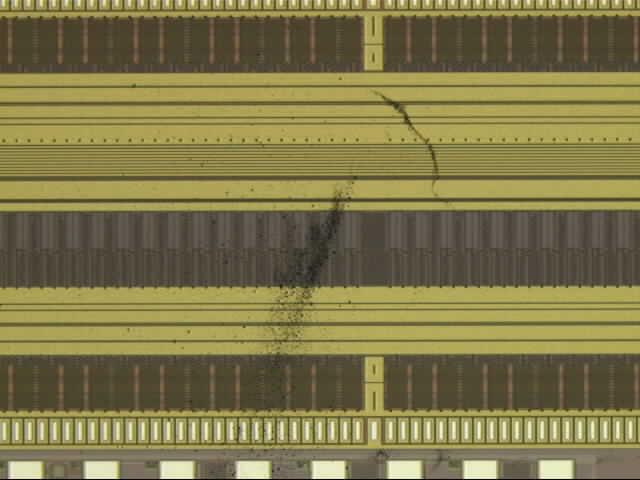PO CONTAMINATION: (194, 84, 466, 476)
